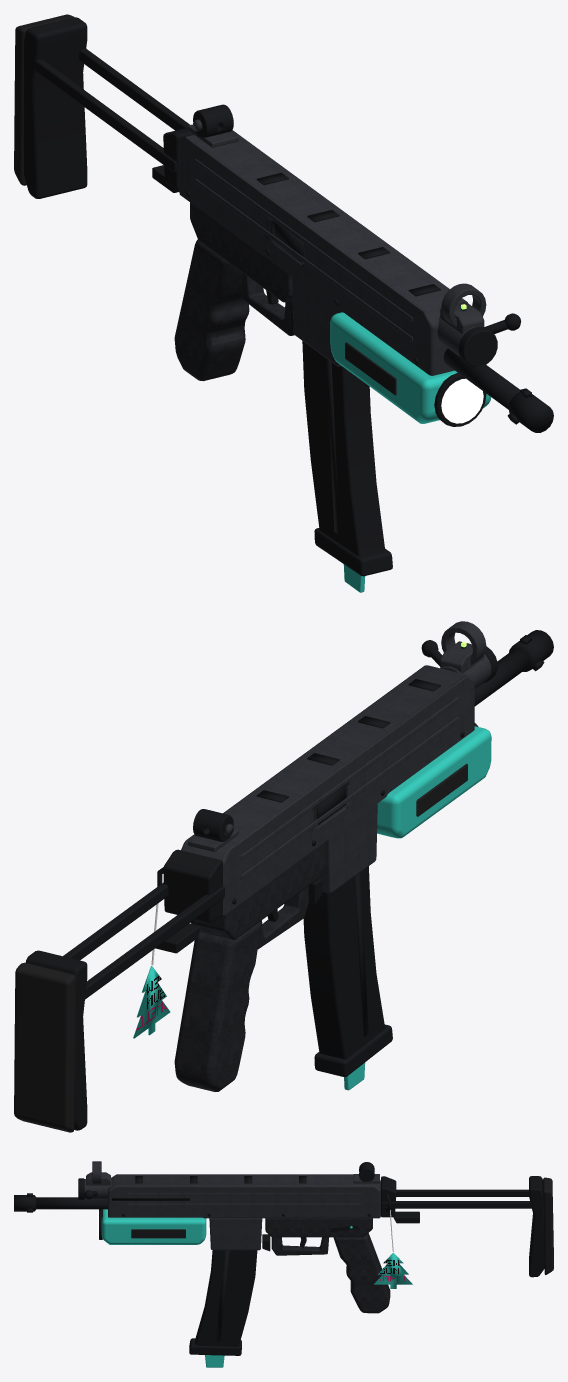
Rendered from w_smg.glb.
3 views of the same model, one above another, from view 1: azimuth 30°, elevation 25°; view 2: azimuth 150°, elevation 25°; view 3: azimuth 270°, elevation 25° (orthographic). The views are drawn at different scales.
Visible parts, largest first — view 1: smg_body_wzA__smg_steel__m2a2c33, smg_body_wzA__smg_dark__p121316, mag_wzB__smg_dark__p121316, smg_body_wzA__smg_polymer__p1c1d21, smg_body_wzB__smg_dark__p121316, smg_body_wzA__smg_teal__p2fc8b8, smg_body_wzA__smg_rubber__p1a1a1c, smg_body_wzB__smg_steel__m2a2c33, smg_body_wzN__smg_lens__nc8fff6; view 2: smg_body_wzA__smg_steel__m2a2c33, smg_body_wzA__smg_polymer__p1c1d21, mag_wzB__smg_dark__p121316, smg_body_wzA__smg_rubber__p1a1a1c, smg_body_wzA__smg_dark__p121316, smg_body_wzB__smg_dark__p121316, smg_body_wzA__smg_teal__p2fc8b8, smg_body_wzB__smg_steel__m2a2c33, smg_body_wzN__smg_freshener__p37b4aa; view 3: smg_body_wzA__smg_steel__m2a2c33, smg_body_wzA__smg_polymer__p1c1d21, mag_wzB__smg_dark__p121316, smg_body_wzA__smg_dark__p121316, smg_body_wzA__smg_teal__p2fc8b8, smg_body_wzB__smg_dark__p121316, smg_body_wzA__smg_rubber__p1a1a1c, smg_body_wzN__smg_freshener__p37b4aa, smg_body_wzB__smg_steel__m2a2c33.
Boxes of the visible parts, x1,y1,x2,y2 form: smg_body_wzA__smg_steel__m2a2c33: (179, 119, 467, 375); smg_body_wzA__smg_dark__p121316: (23, 17, 193, 198); mag_wzB__smg_dark__p121316: (302, 341, 392, 576); smg_body_wzA__smg_polymer__p1c1d21: (174, 202, 304, 381); smg_body_wzB__smg_dark__p121316: (186, 104, 553, 432); smg_body_wzA__smg_teal__p2fc8b8: (330, 312, 491, 423); smg_body_wzA__smg_rubber__p1a1a1c: (14, 14, 396, 395); smg_body_wzB__smg_steel__m2a2c33: (437, 283, 486, 356); smg_body_wzN__smg_lens__nc8fff6: (441, 378, 483, 423); smg_body_wzA__smg_steel__m2a2c33: (181, 665, 474, 915); smg_body_wzA__smg_polymer__p1c1d21: (174, 782, 349, 1091); mag_wzB__smg_dark__p121316: (303, 866, 392, 1076); smg_body_wzA__smg_rubber__p1a1a1c: (14, 763, 467, 1132); smg_body_wzA__smg_dark__p121316: (26, 849, 224, 1130); smg_body_wzB__smg_dark__p121316: (193, 630, 553, 921); smg_body_wzA__smg_teal__p2fc8b8: (377, 726, 491, 838); smg_body_wzB__smg_steel__m2a2c33: (440, 621, 491, 688); smg_body_wzN__smg_freshener__p37b4aa: (133, 966, 170, 1038); smg_body_wzA__smg_steel__m2a2c33: (108, 1174, 380, 1250); smg_body_wzA__smg_polymer__p1c1d21: (265, 1218, 390, 1313); mag_wzB__smg_dark__p121316: (189, 1250, 257, 1355); smg_body_wzA__smg_dark__p121316: (381, 1176, 544, 1277); smg_body_wzA__smg_teal__p2fc8b8: (101, 1209, 352, 1244); smg_body_wzB__smg_dark__p121316: (14, 1162, 374, 1251); smg_body_wzA__smg_rubber__p1a1a1c: (131, 1177, 553, 1274); smg_body_wzN__smg_freshener__p37b4aa: (374, 1252, 412, 1288); smg_body_wzB__smg_steel__m2a2c33: (84, 1161, 111, 1199).
Size of the model in its own units: 0.068 by 0.29 by 0.6924.
10 materials, 3 textured.
